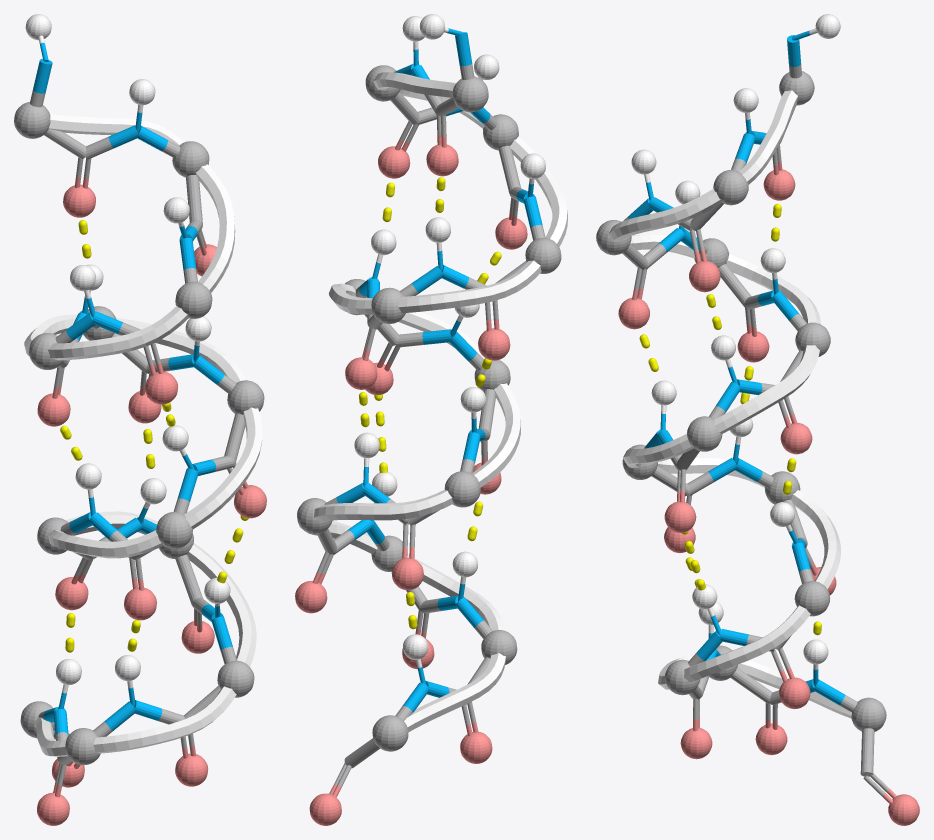
File: a-helix.glb
3 views of the same model, side by side, from view 1: azimuth 30°, elevation 25°; view 2: azimuth 150°, elevation 25°; view 3: azimuth 270°, elevation 25° (orthographic). The views are drawn at different scales.
Parts seen in each view (by area): view 1: Shape_IndexedFaceSet, Shape_Sphere_019, Shape_Sphere_007, Shape_Sphere_001, Shape_Sphere_028, Shape_Sphere_031, Shape_Sphere_016, Shape_Sphere_004, Shape_Sphere_008, Shape_Sphere_011, Shape_Sphere_020, Shape_Sphere_032 (+25 smaller); view 2: Shape_IndexedFaceSet, Shape_Sphere_034, Shape_Sphere_001, Shape_Sphere_022, Shape_Sphere_010, Shape_Sphere_013, Shape_Sphere_007, Shape_Sphere_031, Shape_Sphere_035, Shape_Sphere_023, Shape_Sphere_014, Shape_Sphere_002 (+20 smaller); view 3: Shape_IndexedFaceSet, Shape_Sphere_004, Shape_Sphere_016, Shape_Sphere_025, Shape_Sphere_034, Shape_Sphere_013, Shape_Sphere_017, Shape_Sphere_005, Shape_Sphere_026, Shape_Sphere_014, Shape_Sphere_035, Shape_Sphere_008 (+9 smaller).
Boxes of the visible parts, x1,y1,x2,y2 form: Shape_IndexedFaceSet: (24, 114, 262, 756); Shape_Sphere_019: (156, 512, 192, 548); Shape_Sphere_007: (175, 281, 212, 318); Shape_Sphere_001: (14, 102, 50, 138); Shape_Sphere_028: (217, 660, 254, 697); Shape_Sphere_031: (65, 728, 100, 765); Shape_Sphere_016: (227, 380, 264, 414); Shape_Sphere_004: (172, 141, 209, 177); Shape_Sphere_008: (145, 371, 177, 404); Shape_Sphere_011: (37, 393, 70, 426); Shape_Sphere_020: (124, 587, 156, 620); Shape_Sphere_032: (37, 792, 69, 825); Shape_IndexedFaceSet: (299, 72, 567, 732); Shape_Sphere_034: (372, 715, 408, 751); Shape_Sphere_001: (452, 76, 488, 112); Shape_Sphere_022: (444, 471, 480, 507); Shape_Sphere_010: (525, 238, 561, 273); Shape_Sphere_013: (371, 287, 405, 323); Shape_Sphere_007: (483, 114, 518, 150); Shape_Sphere_031: (481, 630, 517, 664); Shape_Sphere_035: (309, 793, 341, 825); Shape_Sphere_023: (391, 557, 423, 590); Shape_Sphere_014: (345, 357, 377, 389); Shape_Sphere_002: (426, 144, 458, 176); Shape_IndexedFaceSet: (608, 90, 851, 718); Shape_Sphere_004: (713, 170, 748, 205); Shape_Sphere_016: (687, 416, 722, 451); Shape_Sphere_025: (794, 581, 830, 616); Shape_Sphere_034: (851, 697, 886, 731); Shape_Sphere_013: (795, 322, 830, 356); Shape_Sphere_017: (664, 501, 696, 532); Shape_Sphere_005: (689, 261, 720, 292); Shape_Sphere_026: (779, 677, 810, 709); Shape_Sphere_014: (780, 422, 812, 454); Shape_Sphere_035: (888, 794, 919, 825); Shape_Sphere_008: (618, 298, 649, 329).
Size of the model in its own units: 6.1 by 20.52 by 7.75.
